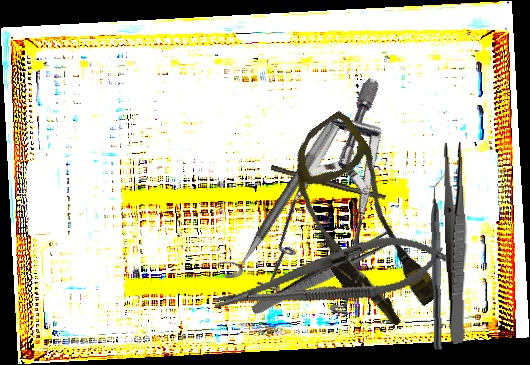Cannula: (258, 108, 463, 338)
Chopper: (427, 171, 455, 350)
Dressing Forceps: (250, 228, 396, 320), (441, 142, 472, 344)
Fixation Ring: (211, 112, 338, 286)
Needle Holder: (207, 223, 452, 331)
Scalpel Handle: (269, 164, 387, 203)
Speculum: (202, 74, 482, 347)
